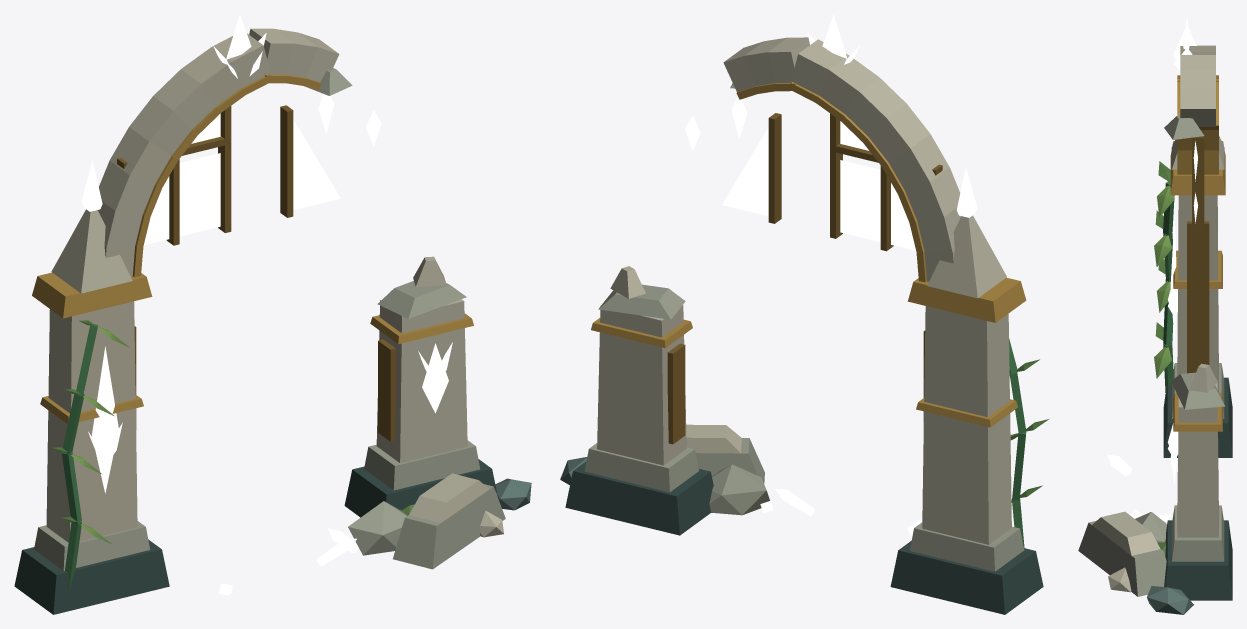
Rendered from trellis-arch.glb.
The picture shows the model from 3 angles, left to right: view 1: azimuth 30°, elevation 25°; view 2: azimuth 150°, elevation 25°; view 3: azimuth 270°, elevation 25°; orthographic projection. The views are drawn at different scales.
Parts seen in each view (by area): view 1: gg_trellis_arch; view 2: gg_trellis_arch; view 3: gg_trellis_arch.
Boxes of the visible parts, x1,y1,x2,y2 form: gg_trellis_arch: (14, 14, 531, 614); gg_trellis_arch: (560, 14, 1048, 614); gg_trellis_arch: (1078, 15, 1232, 614).
Size of the model in its own units: 3.58 by 3.84 by 1.12.
